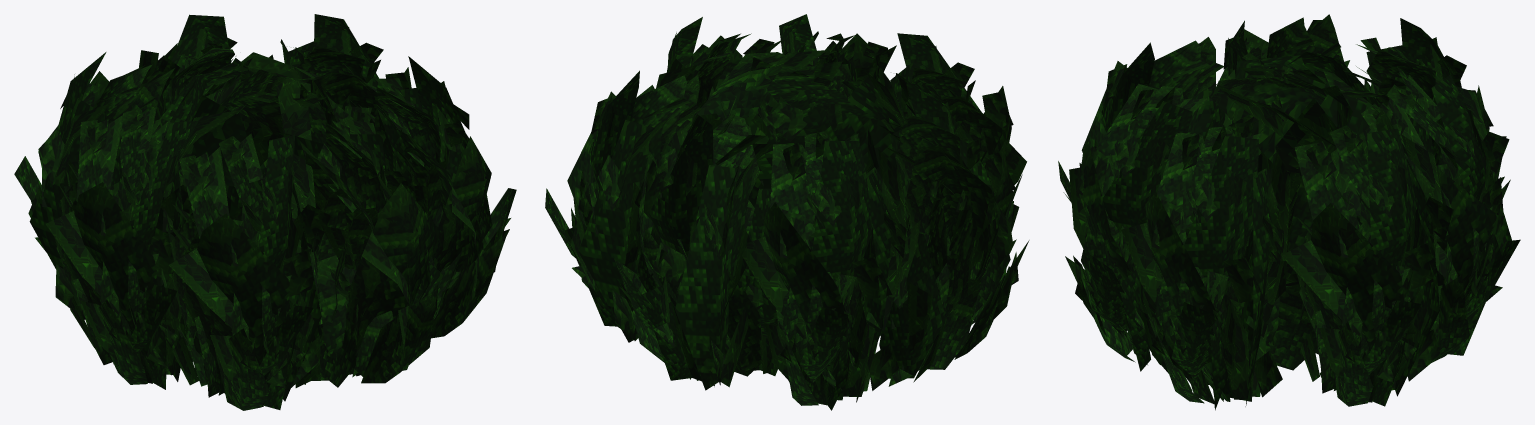
3 renders of one model, left to right at view 1: azimuth 30°, elevation 25°; view 2: azimuth 150°, elevation 25°; view 3: azimuth 270°, elevation 25°, orthographic.
Parts seen in each view (by area): view 1: SM_BUSH; view 2: SM_BUSH; view 3: SM_BUSH.
Boxes of the visible parts, x1,y1,x2,y2 form: SM_BUSH: [14, 14, 516, 410]; SM_BUSH: [545, 14, 1029, 410]; SM_BUSH: [1058, 14, 1520, 410].
Bounding box in the file's own units: 412 × 265 × 384.
Materials: 1 (1 with a texture image).
